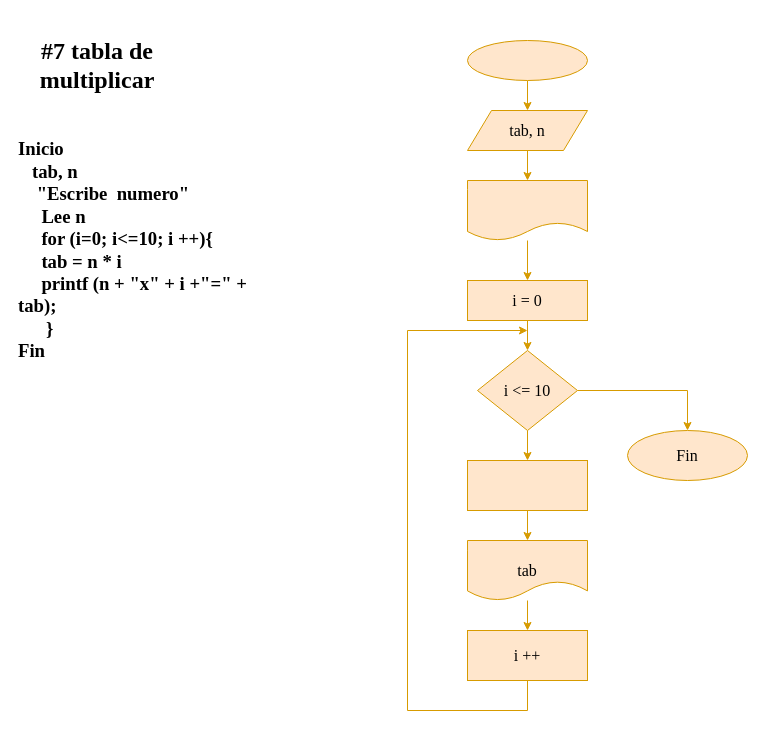
Some shapes in this 765 by 736 pixel diagram are drawn without their labels. Here are the shapes that lost their labels. From the top down, the box of each, then its label:
(466, 40, 588, 80): Inicio
(466, 180, 588, 240): "Escribe numero"
(466, 460, 588, 510): tab = n * i
